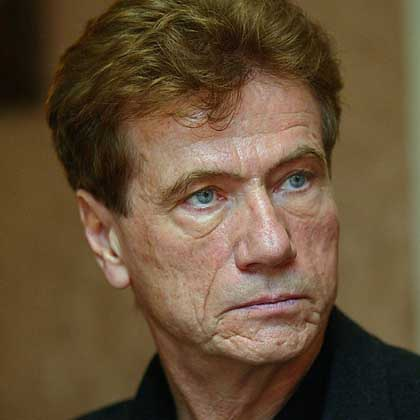bad: (142, 118, 365, 341)
